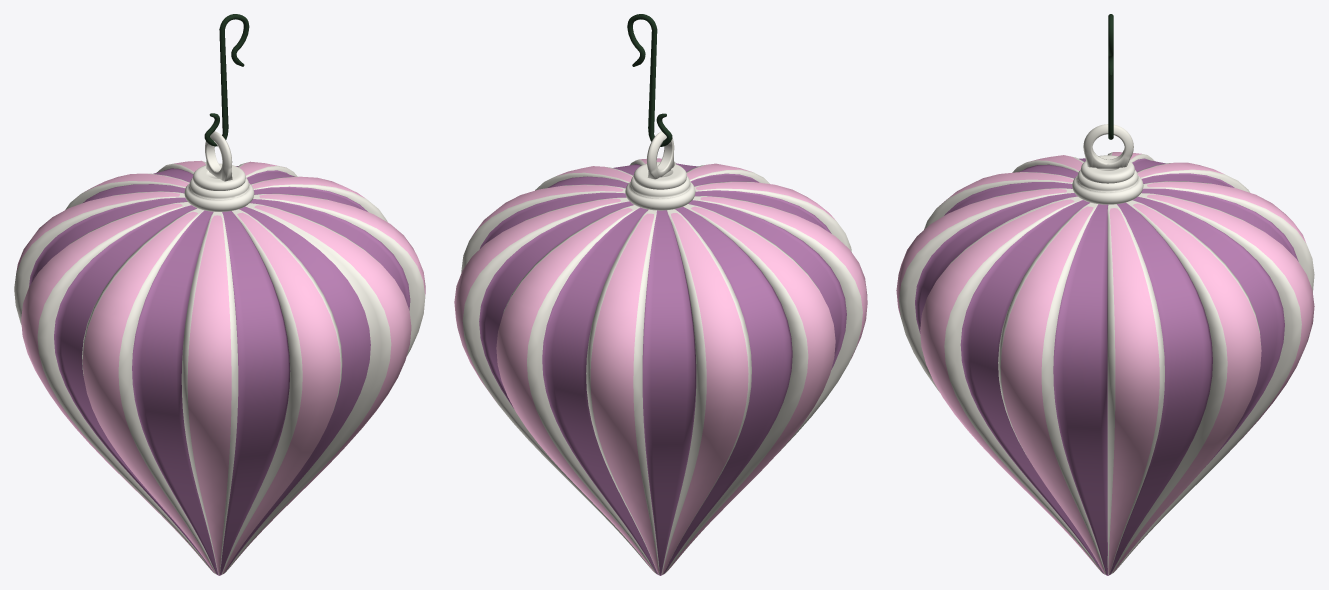
Rendered from Pallina_natalizia_04.fbx.
The picture shows the model from 3 angles, left to right: view 1: azimuth 30°, elevation 25°; view 2: azimuth 150°, elevation 25°; view 3: azimuth 270°, elevation 25°; orthographic projection.
Visible parts, largest first — view 1: Pallina_natalizia_04; view 2: Pallina_natalizia_04; view 3: Pallina_natalizia_04.
Boxes of the visible parts, x1=… form: Pallina_natalizia_04: x1=14, y1=14, x2=425, y2=575; Pallina_natalizia_04: x1=454, y1=14, x2=867, y2=575; Pallina_natalizia_04: x1=896, y1=14, x2=1314, y2=575.
Bounding box in the file's own units: 11.67 × 17.41 × 11.62.
